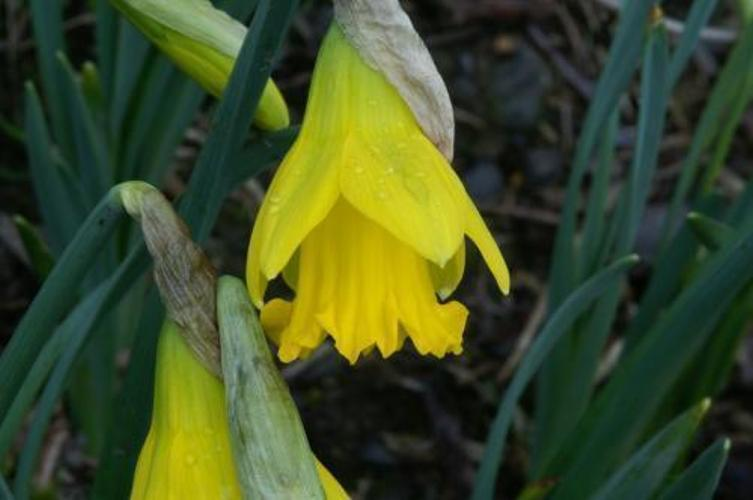flower1: (245, 19, 511, 365)
